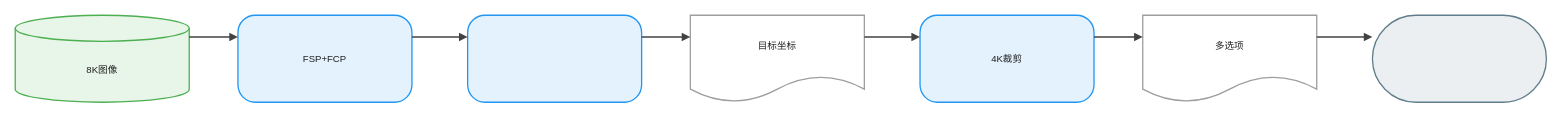
The diagram is 1563 pixels wide and 118 high, and some of its shapes have lost their labels. The centre of each missing label's shape, as x and y in pixels:
"人工问答" goes at (554,58).
"准确+不确定" goes at (1459,58).
